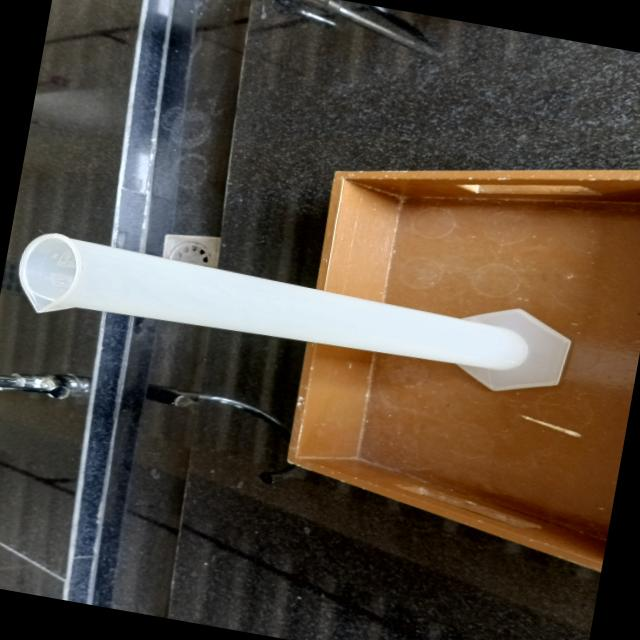graduated_cylinder: (6, 216, 583, 408)
